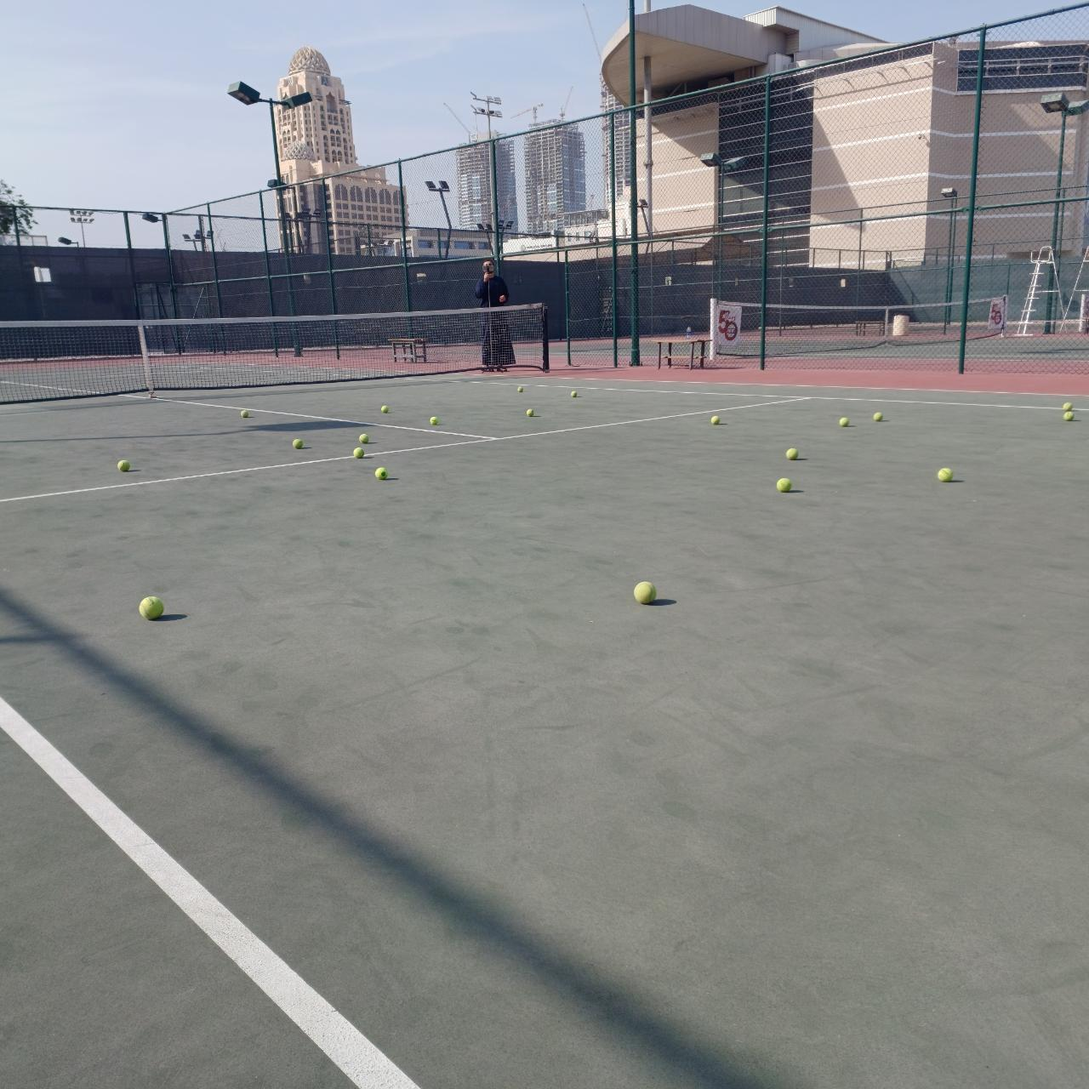tennis-ball: (137, 593, 164, 620), (631, 579, 656, 604), (938, 467, 954, 482), (777, 478, 791, 492), (116, 457, 129, 471), (375, 466, 387, 479), (786, 448, 798, 460), (353, 447, 364, 459), (292, 438, 303, 449), (359, 433, 369, 444), (1063, 412, 1075, 421), (1063, 402, 1073, 412), (874, 412, 883, 422), (430, 416, 439, 425), (526, 408, 535, 417), (711, 416, 720, 425), (840, 418, 849, 427), (241, 409, 249, 419), (381, 405, 389, 413), (517, 386, 523, 393), (570, 391, 577, 397)
